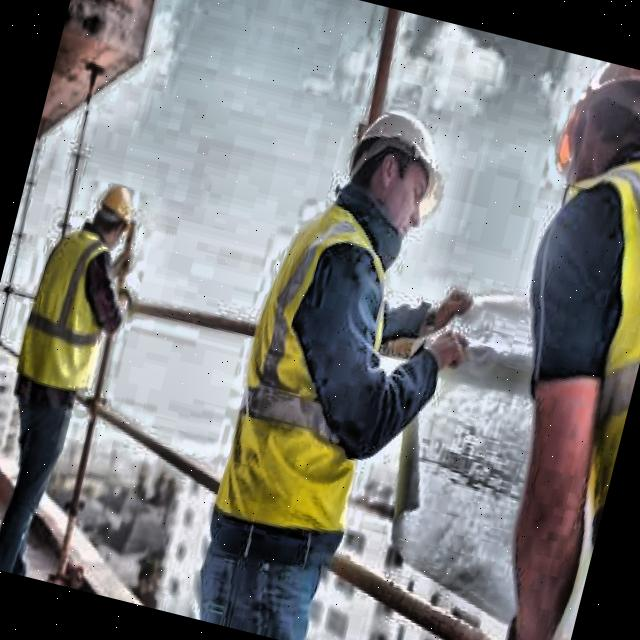helmet: (324, 88, 468, 252), (535, 56, 640, 228), (82, 175, 146, 261)
